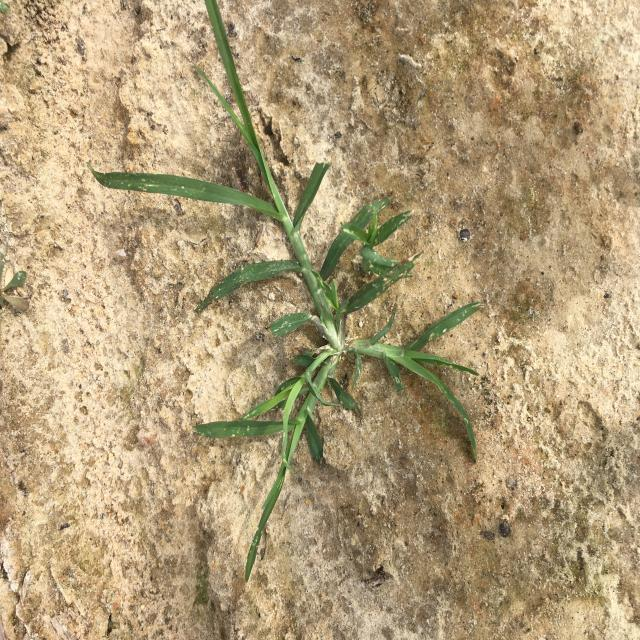Goosegrass: (89, 0, 484, 580)
